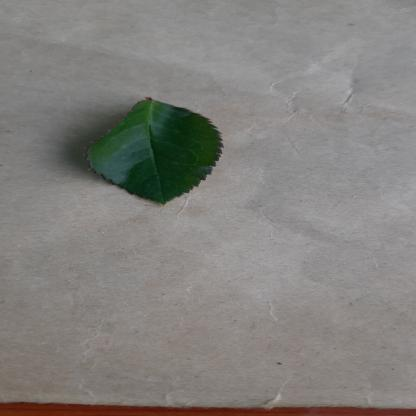normal: (72, 94, 245, 204)
